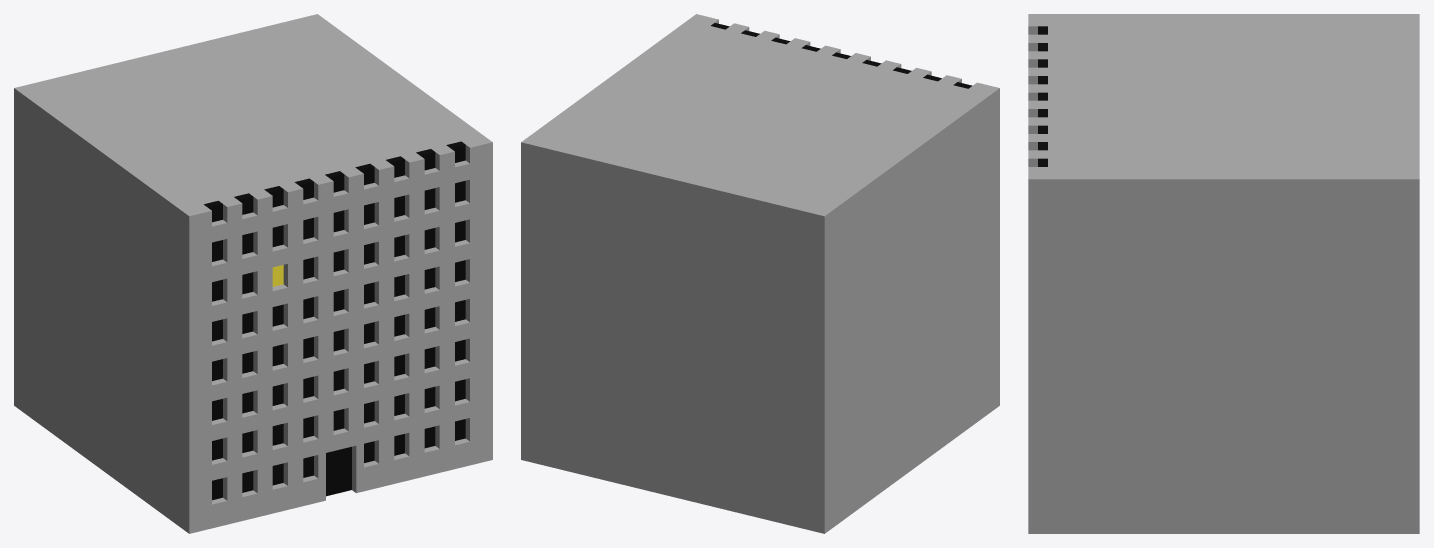
The picture shows the model from 3 angles, left to right: view 1: azimuth 30°, elevation 25°; view 2: azimuth 150°, elevation 25°; view 3: azimuth 270°, elevation 25°; orthographic projection. The views are drawn at different scales.
Parts seen in each view (by area): view 1: Ed_1.024; view 2: Ed_1.024; view 3: Ed_1.024.
Boxes of the visible parts, left/top/right/bottom form: Ed_1.024: left=14, top=14, right=492, bottom=533; Ed_1.024: left=521, top=14, right=999, bottom=533; Ed_1.024: left=1028, top=14, right=1419, bottom=533.
Bounding box in the file's own units: 4 × 4 × 4.
Materials: 1 (1 with a texture image).
